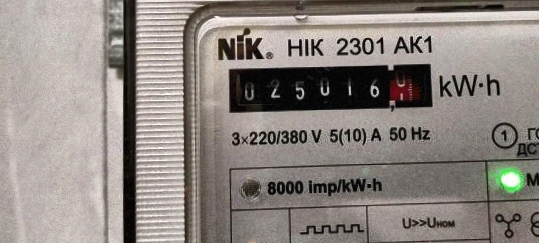0: (317, 73, 332, 97), (241, 79, 255, 101), (393, 67, 406, 87)
1: (342, 72, 354, 97), (396, 90, 404, 101)
2: (267, 75, 281, 98)
5: (292, 78, 304, 99)
6: (366, 74, 380, 100)
screen: (218, 53, 441, 118)
